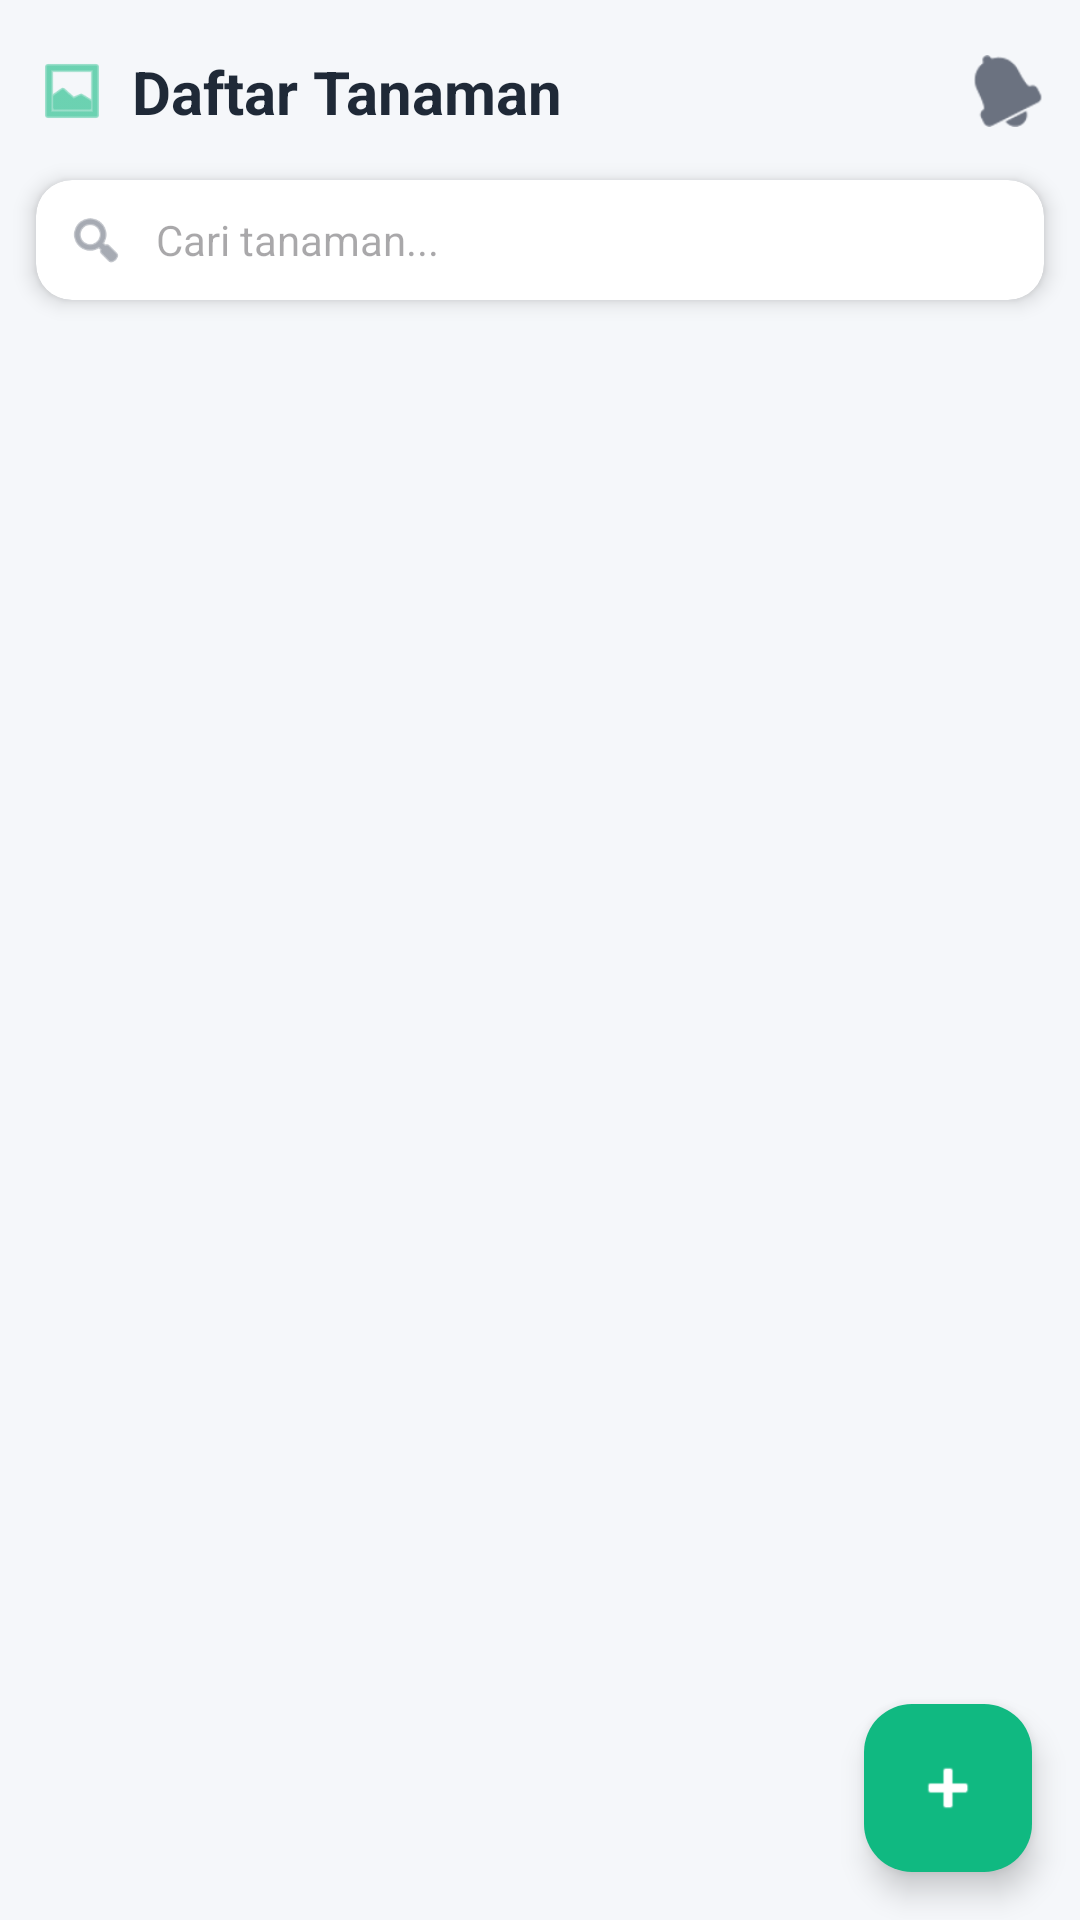

Icon click points for this 1080px x 1920px phone screenshot, format [x,y]:
gallery: [72,91]
popup reminder: [1008,91]
search: [96,240]
Tambah Tanaman: [948,1788]
